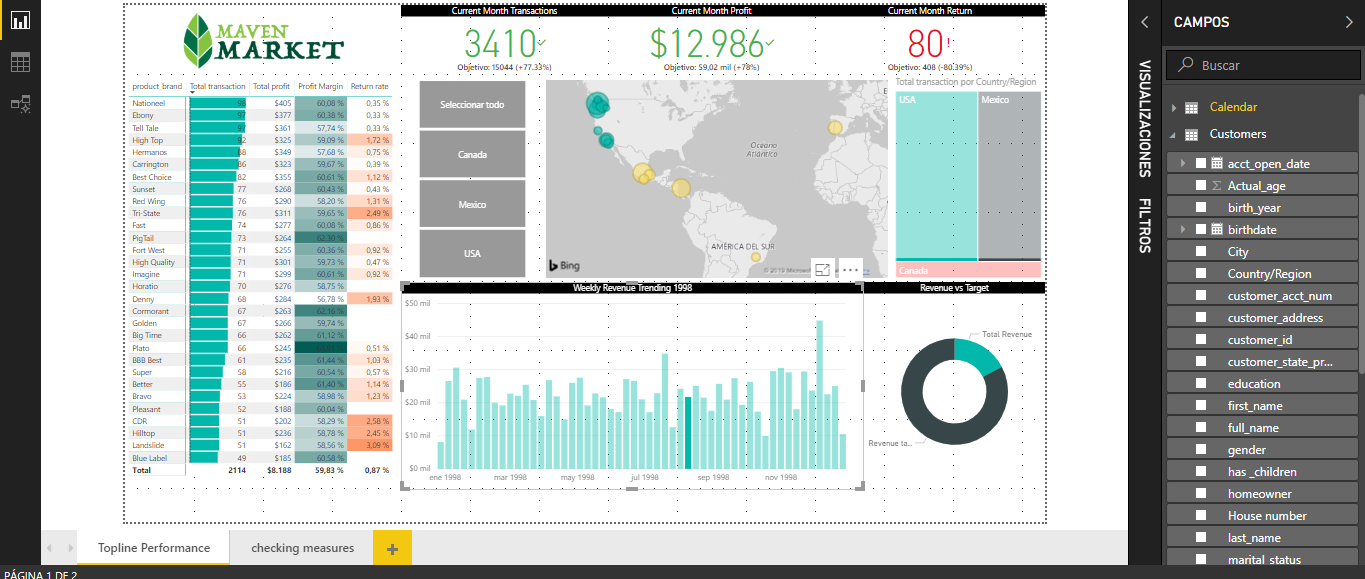

The dashboard page shown, as its layout file describes it:
{"tool":"powerbi","page":{"name":"Topline Performance","canvas":[1280,720],"ordinal":0},"visuals":[{"type":"image","box":[0,0,384,99],"z":1},{"type":"pivotTable","fields":{"Rows":["Products.product_brand"],"Values":["Transactions_data.Total transaction","Products.Total profit","Products.Profit Margin","Products.Return rate"]},"box":[0,99,384,621.7],"z":2},{"type":"kpi","title":"Current Month Transactions","fields":{"Indicator":["Transactions_data.Total transaction"],"TrendLine":["Calendar.Inicio del mes"],"Goal":["Products.Last month transactions"]},"box":[384,0,288,99],"z":3},{"type":"kpi","title":"Current Month Profit","fields":{"TrendLine":["Calendar.Inicio del mes"],"Indicator":["Products.Total profit"],"Goal":["Products.Last month profit"]},"box":[672,0,288,99],"z":3},{"type":"kpi","title":"Current Month Return","fields":{"TrendLine":["Calendar.Inicio del mes"],"Indicator":["Returns_1997_1998.Total return"],"Goal":["Products.Last month return"]},"box":[960,0,320,99],"z":3},{"type":"map","fields":{"Size":["Transactions_data.Total transaction"],"Category":["Stores.City"],"Series":["Stores.Country/Region"]},"box":[580.6,99,486.1,286.5],"z":6},{"type":"slicer","fields":{"Values":["Stores.Country/Region"]},"box":[384,99,196.6,286.5],"z":7},{"type":"treemap","fields":{"Values":["Transactions_data.Total transaction"],"Group":["Stores.Country/Region","Stores.State or Province","Stores.City"]},"box":[1066.7,99,213.3,286.5],"z":8},{"type":"clusteredColumnChart","title":"Weekly Revenue Trending 1998","fields":{"Y":["Products.Total Revenue"],"Category":["Calendar.Inicio de la semana"]},"box":[384,385.4,644.2,289.4],"z":9},{"type":"donutChart","title":"Revenue vs Target","fields":{"Y":["Products.Total Revenue","Products.Revenue target"]},"box":[1028.2,385.4,251.8,289.4],"z":10}]}

Visuals, with their boxes on the page's 1280x720 design canvas (x1, y1, x2, y2). These are canvas units, not pixel positions in the 1365x579 screenshot, which may show the page scaled, cropped or inside an application window:
image: bbox=(0, 0, 384, 99)
pivotTable - Products.product_brand x Transactions_data.Total transaction: bbox=(0, 99, 384, 721)
"Current Month Transactions" kpi: bbox=(384, 0, 672, 99)
"Current Month Profit" kpi: bbox=(672, 0, 960, 99)
"Current Month Return" kpi: bbox=(960, 0, 1280, 99)
map - Transactions_data.Total transaction x Stores.City: bbox=(581, 99, 1067, 386)
slicer - Stores.Country/Region: bbox=(384, 99, 581, 386)
treemap - Transactions_data.Total transaction x Stores.Country/Region: bbox=(1067, 99, 1280, 386)
"Weekly Revenue Trending 1998" clusteredColumnChart: bbox=(384, 385, 1028, 675)
"Revenue vs Target" donutChart: bbox=(1028, 385, 1280, 675)
